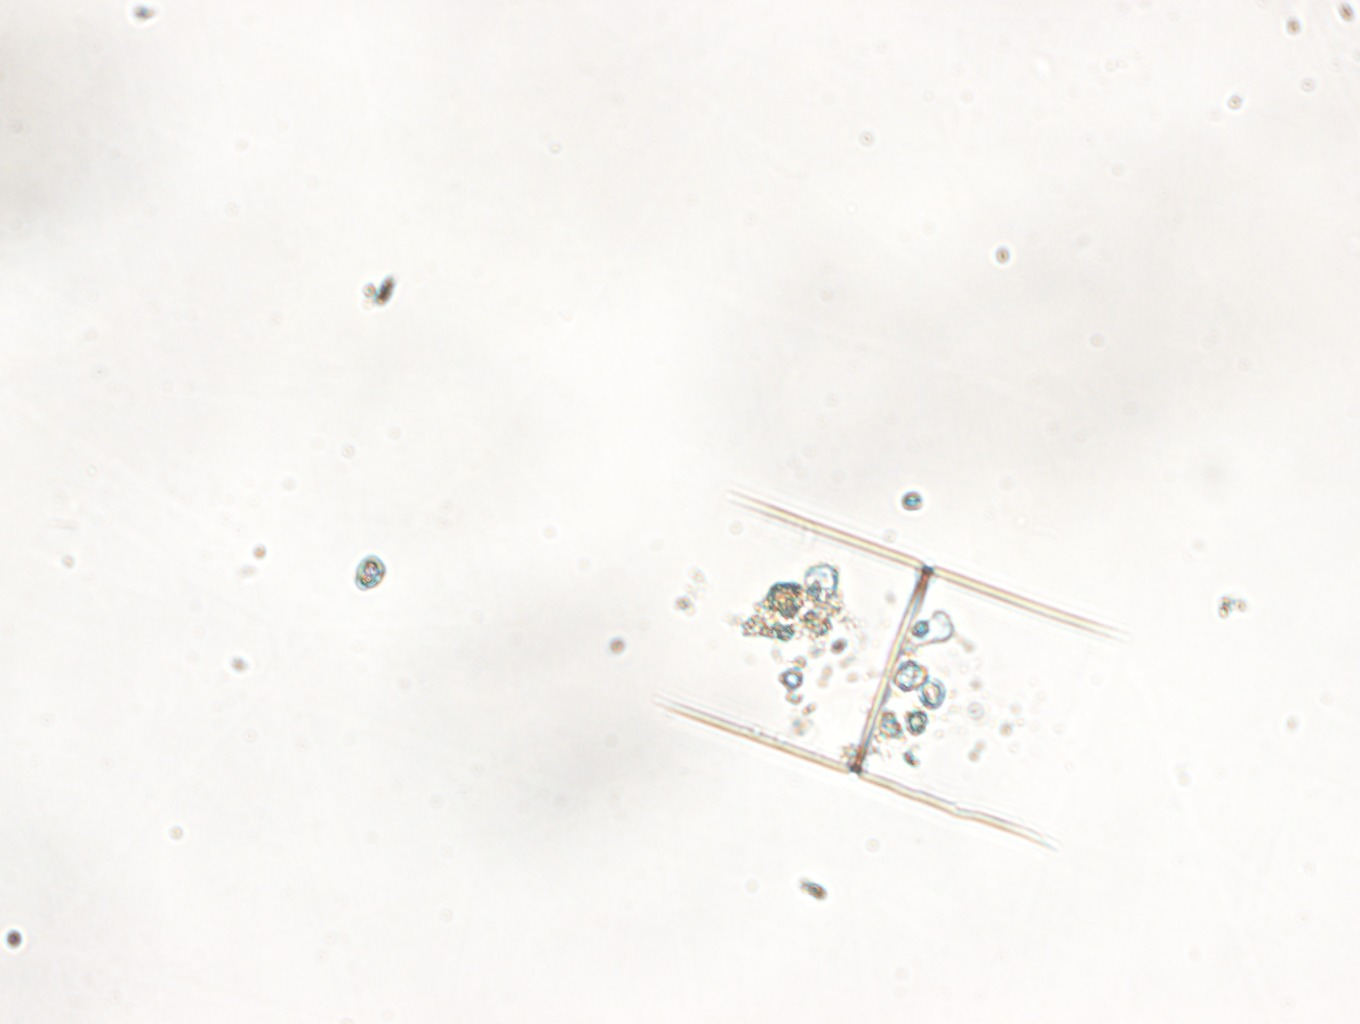guinardia flaccida: (655, 489, 1114, 843)
